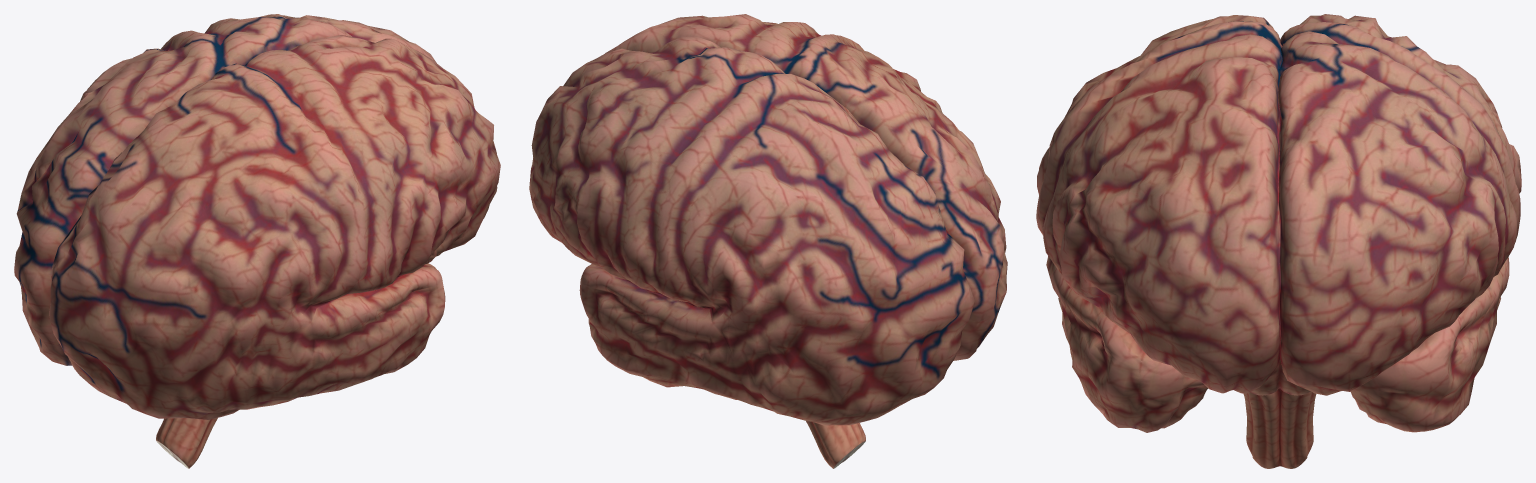
The model's file is brain.glb.
3 renders of one model, left to right at view 1: azimuth 30°, elevation 25°; view 2: azimuth 150°, elevation 25°; view 3: azimuth 270°, elevation 25°, orthographic. The views are drawn at different scales.
Size of the model in its own units: 2 by 1.79 by 1.63.
1 material, 1 textured.
